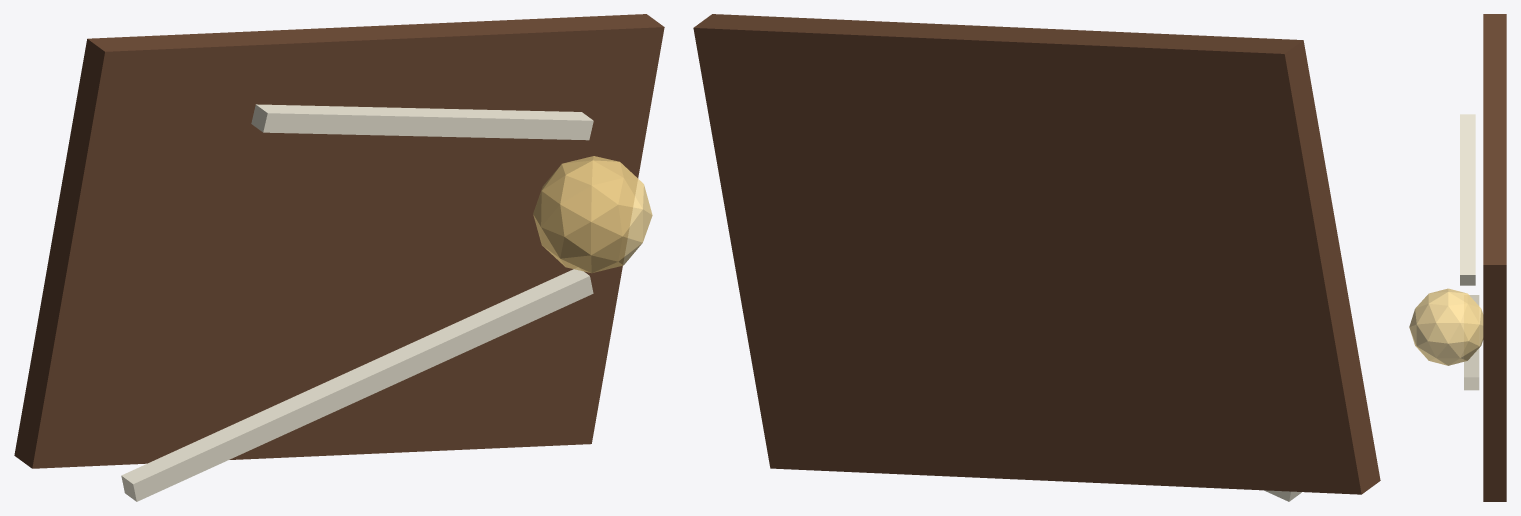
Rendered from 02_world_prop_polish.glb.
The picture shows the model from 3 angles, left to right: view 1: azimuth 30°, elevation 25°; view 2: azimuth 150°, elevation 25°; view 3: azimuth 270°, elevation 25°; orthographic projection. The views are drawn at different scales.
Parts seen in each view (by area): view 1: object_overlay_plate, edge_wear_a, glow_socket, edge_wear_b; view 2: object_overlay_plate; view 3: object_overlay_plate, glow_socket, edge_wear_b, edge_wear_a.
Part boxes in pixels (<box>): object_overlay_plate: <box>14,14,664,468</box>; edge_wear_a: <box>121,268,593,501</box>; glow_socket: <box>533,156,652,273</box>; edge_wear_b: <box>251,104,593,140</box>; object_overlay_plate: <box>693,14,1380,494</box>; object_overlay_plate: <box>1483,14,1506,501</box>; glow_socket: <box>1409,288,1483,365</box>; edge_wear_b: <box>1460,114,1475,285</box>; edge_wear_a: <box>1464,295,1479,390</box>.
Bounding box in the file's own units: 1.22 × 0.943 × 0.25.
